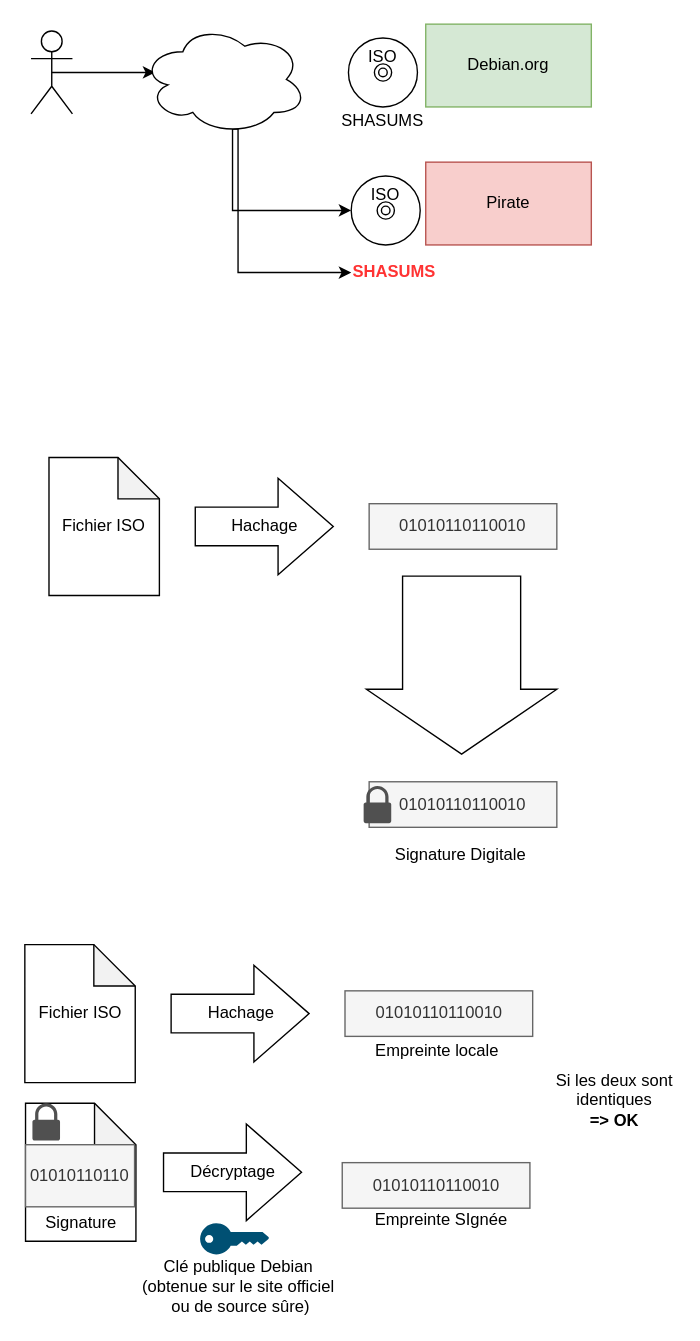
Image size: 700x1341. Some labels were removed from this diagram. The shapes that lost their labels are listed below. From the top down, each one's box as (x1, y1, x2, y2) in pixels, then its label:
(140, 23, 307, 135): Internet
(365, 575, 557, 754): Cryptage du hash avec clé privée de Debian.org
